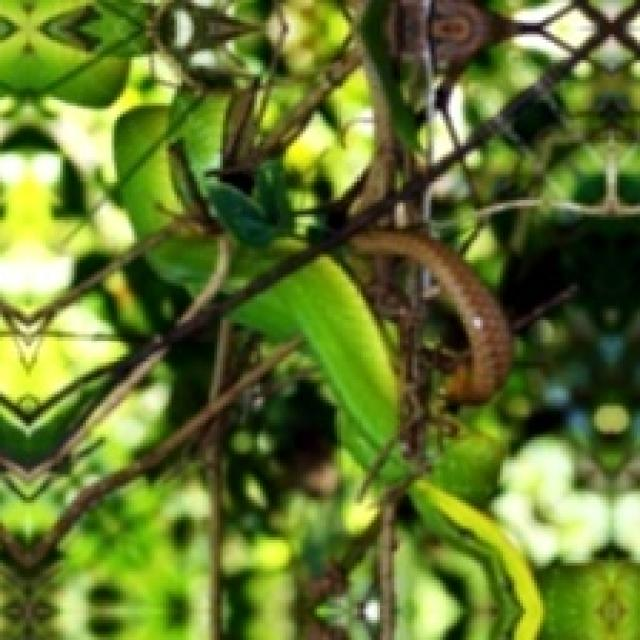red-tailed green ratsnake: (239, 250, 542, 639), (351, 231, 509, 400), (361, 229, 512, 397), (115, 91, 285, 219), (140, 229, 219, 292)
